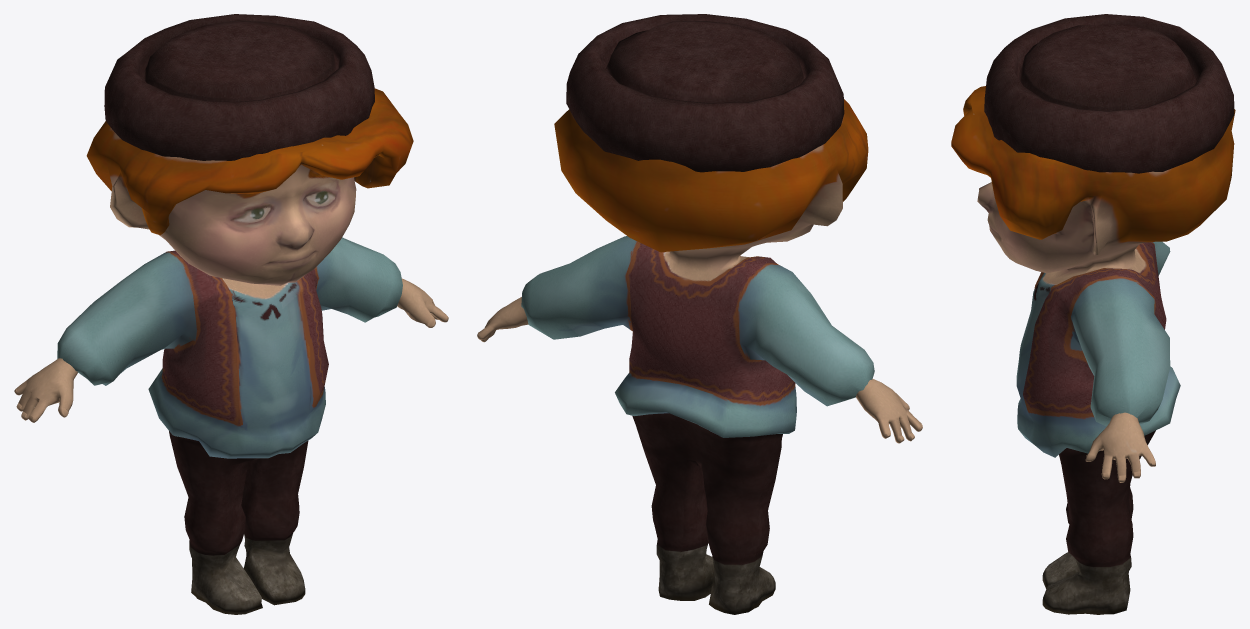
File: EnfantRouxTpose.fbx
The picture shows the model from 3 angles, left to right: view 1: azimuth 30°, elevation 25°; view 2: azimuth 150°, elevation 25°; view 3: azimuth 270°, elevation 25°; orthographic projection. The views are drawn at different scales.
Visible parts, largest first — view 1: polySurface8; view 2: polySurface8; view 3: polySurface8.
Boxes of the visible parts, x1=… form: polySurface8: x1=14, y1=14, x2=448, y2=614; polySurface8: x1=477, y1=14, x2=922, y2=614; polySurface8: x1=951, y1=14, x2=1235, y2=614.
Bounding box in the file's own units: 44.61 × 54.64 × 26.08.
